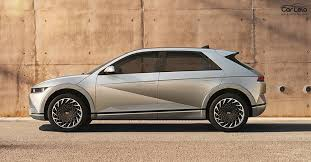Honda Ioniq: (26, 38, 268, 135)
